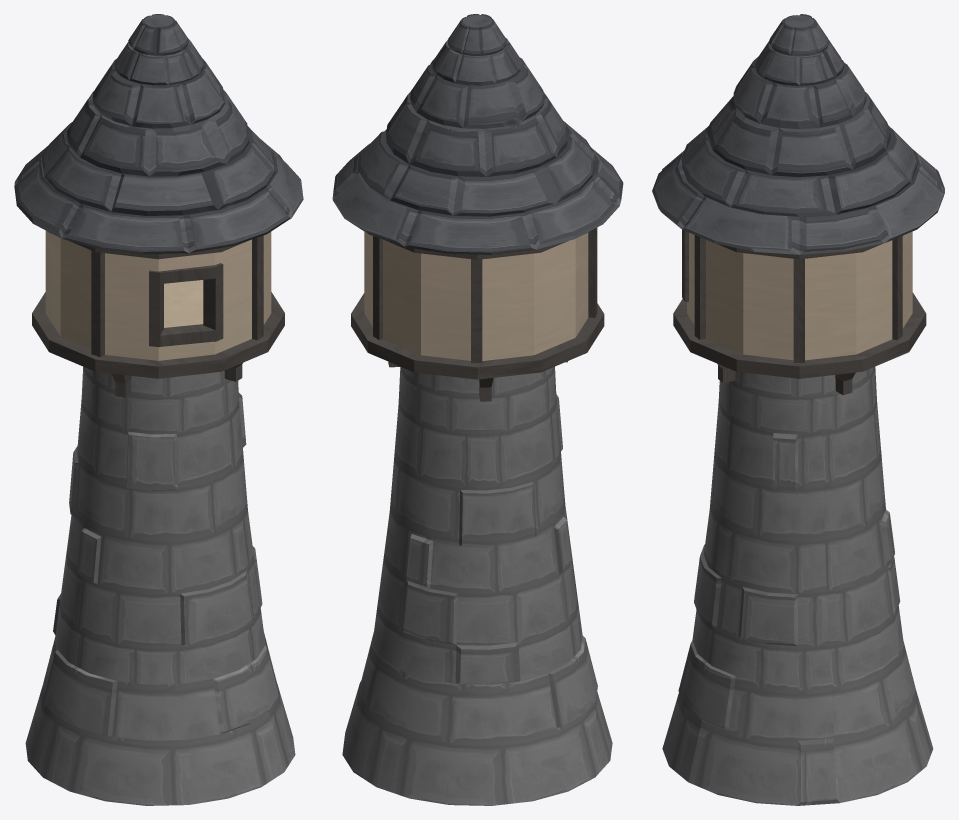
File: att_tower2-2_uv.fbx
3 renders of one model, left to right at view 1: azimuth 30°, elevation 25°; view 2: azimuth 150°, elevation 25°; view 3: azimuth 270°, elevation 25°, orthographic.
Visible parts, largest first — view 1: polySurface5; view 2: polySurface5; view 3: polySurface5.
Boxes of the visible parts, <box> form: polySurface5: <box>14,14,303,805</box>; polySurface5: <box>332,14,623,805</box>; polySurface5: <box>652,14,944,805</box>.
Size of the model in its own units: 47.54 by 131 by 47.93.
5 materials, 4 textured.
